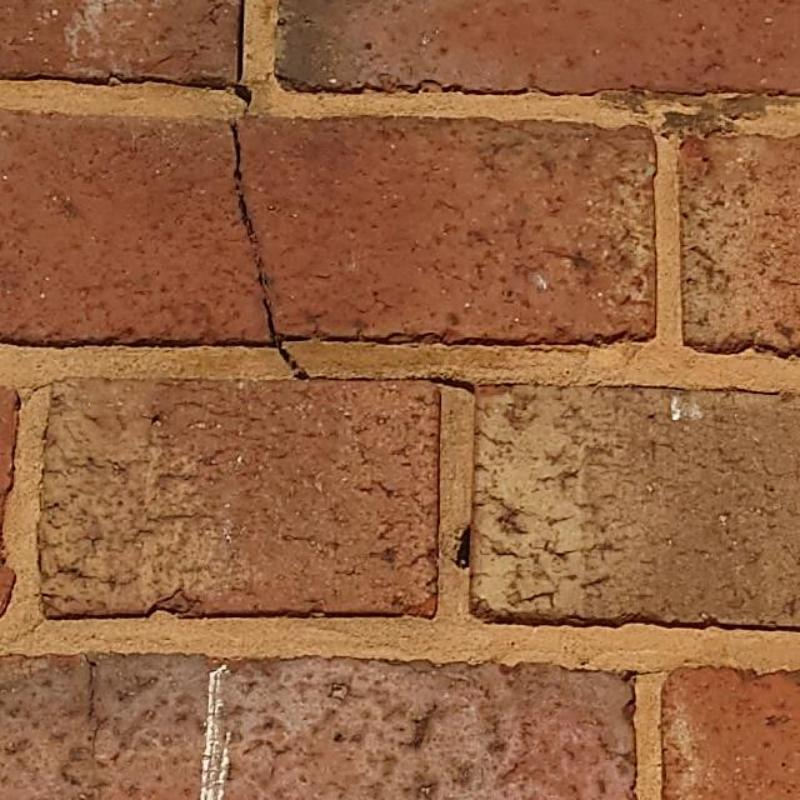pothole: (264, 300, 311, 378), (85, 653, 111, 761), (347, 375, 473, 394), (234, 0, 252, 104), (452, 523, 470, 569), (238, 194, 253, 236), (232, 126, 243, 181)
